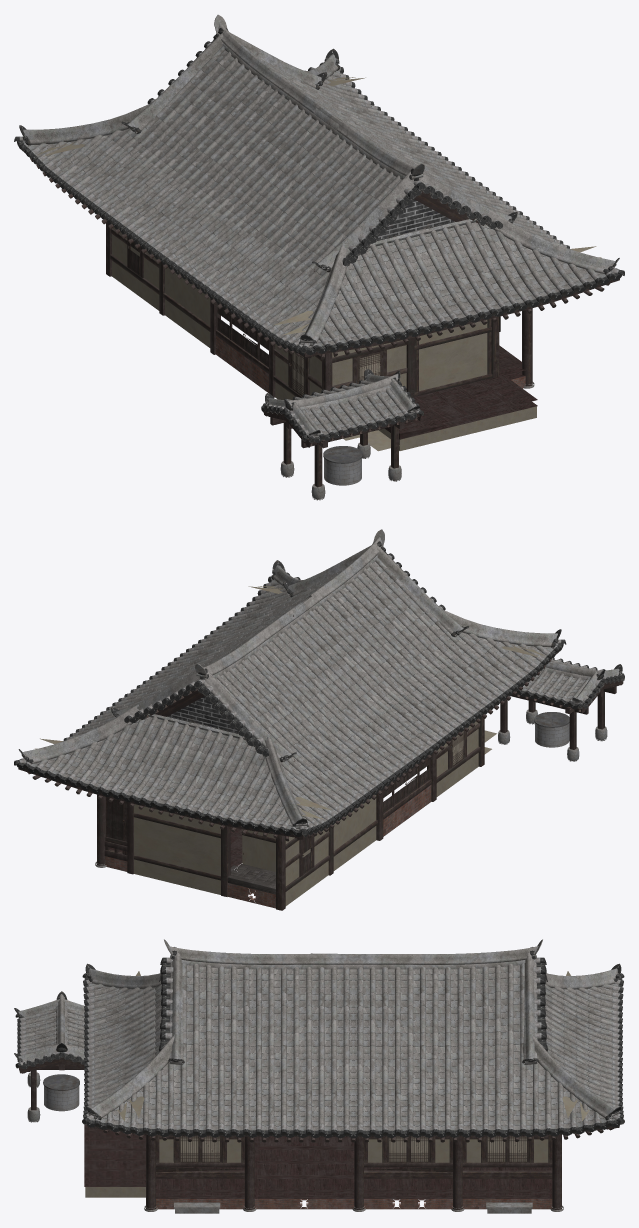
The model's file is sarang.glb.
3 renders of one model, top to bottom at view 1: azimuth 30°, elevation 25°; view 2: azimuth 150°, elevation 25°; view 3: azimuth 270°, elevation 25°, orthographic. The views are drawn at different scales.
Parts seen in each view (by area): view 1: Sarangchae, Sarangchae_Roof_Concrete_01_m_0.002, Sarangchae_Roof_Concrete_01_m_0.001, Sarangchae_Roof_Concrete_01_m_0.003, Sarangchae_Roof_Concrete_01_m_0.006, Sarangchae_Roof_Concrete_01_m_0.004, Sarangchae_Roof_Concrete_01_m_0.007, Sarangchae_Roof_Concrete_01_m_0.005, Sarangchae_Roof_Concrete_01_m_0.008; view 2: Sarangchae, Sarangchae_Roof_Concrete_01_m_0.002, Sarangchae_Roof_Concrete_01_m_0.001, Sarangchae_Roof_Concrete_01_m_0.007, Sarangchae_Roof_Concrete_01_m_0.003, Sarangchae_Roof_Concrete_01_m_0.004, Sarangchae_Roof_Concrete_01_m_0.008, Sarangchae_Roof_Concrete_01_m_0.005, Sarangchae_Roof_Concrete_01_m_0.006; view 3: Sarangchae, Sarangchae_Roof_Concrete_01_m_0.005, Sarangchae_Roof_Concrete_01_m_0.006, Sarangchae_Roof_Concrete_01_m_0.004, Sarangchae_Roof_Concrete_01_m_0.002, Sarangchae_Roof_Concrete_01_m_0.007, Sarangchae_Roof_Concrete_01_m_0.008, Sarangchae_Roof_Concrete_01_m_0.003.
Part boxes in pixels (bbox=[...]): Sarangchae: bbox=[15, 43, 619, 500]; Sarangchae_Roof_Concrete_01_m_0.002: bbox=[14, 15, 624, 440]; Sarangchae_Roof_Concrete_01_m_0.001: bbox=[172, 119, 401, 339]; Sarangchae_Roof_Concrete_01_m_0.003: bbox=[20, 14, 622, 443]; Sarangchae_Roof_Concrete_01_m_0.006: bbox=[308, 127, 619, 348]; Sarangchae_Roof_Concrete_01_m_0.004: bbox=[41, 50, 465, 249]; Sarangchae_Roof_Concrete_01_m_0.007: bbox=[307, 62, 463, 350]; Sarangchae_Roof_Concrete_01_m_0.005: bbox=[287, 66, 560, 245]; Sarangchae_Roof_Concrete_01_m_0.008: bbox=[292, 383, 416, 439]; Sarangchae: bbox=[15, 555, 623, 910]; Sarangchae_Roof_Concrete_01_m_0.002: bbox=[14, 529, 624, 837]; Sarangchae_Roof_Concrete_01_m_0.001: bbox=[294, 557, 546, 744]; Sarangchae_Roof_Concrete_01_m_0.007: bbox=[19, 716, 299, 830]; Sarangchae_Roof_Concrete_01_m_0.003: bbox=[16, 560, 624, 837]; Sarangchae_Roof_Concrete_01_m_0.004: bbox=[78, 628, 418, 822]; Sarangchae_Roof_Concrete_01_m_0.008: bbox=[160, 659, 600, 832]; Sarangchae_Roof_Concrete_01_m_0.005: bbox=[20, 567, 346, 759]; Sarangchae_Roof_Concrete_01_m_0.006: bbox=[149, 572, 331, 679]; Sarangchae: bbox=[16, 960, 623, 1213]; Sarangchae_Roof_Concrete_01_m_0.005: bbox=[100, 962, 618, 1134]; Sarangchae_Roof_Concrete_01_m_0.006: bbox=[83, 963, 353, 1134]; Sarangchae_Roof_Concrete_01_m_0.004: bbox=[353, 962, 603, 1126]; Sarangchae_Roof_Concrete_01_m_0.002: bbox=[14, 939, 624, 1138]; Sarangchae_Roof_Concrete_01_m_0.007: bbox=[83, 977, 623, 1124]; Sarangchae_Roof_Concrete_01_m_0.008: bbox=[18, 977, 623, 1062]; Sarangchae_Roof_Concrete_01_m_0.003: bbox=[14, 939, 620, 1138].
Size of the model in its own units: 13.29 by 8.61 by 21.2.
Materials: 15 (15 with a texture image).
